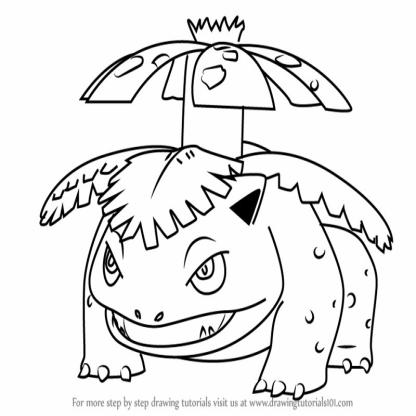Venusaur: (37, 11, 381, 405)
